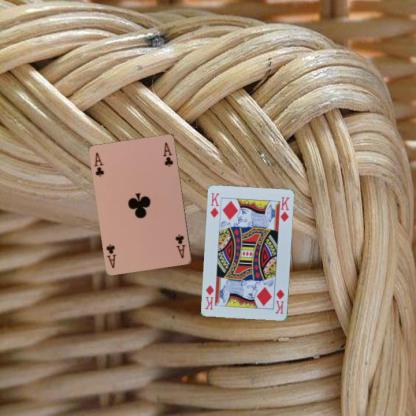Ac: (91, 150, 105, 178), (172, 232, 186, 259)
Kd: (208, 191, 221, 219), (273, 287, 285, 315)
